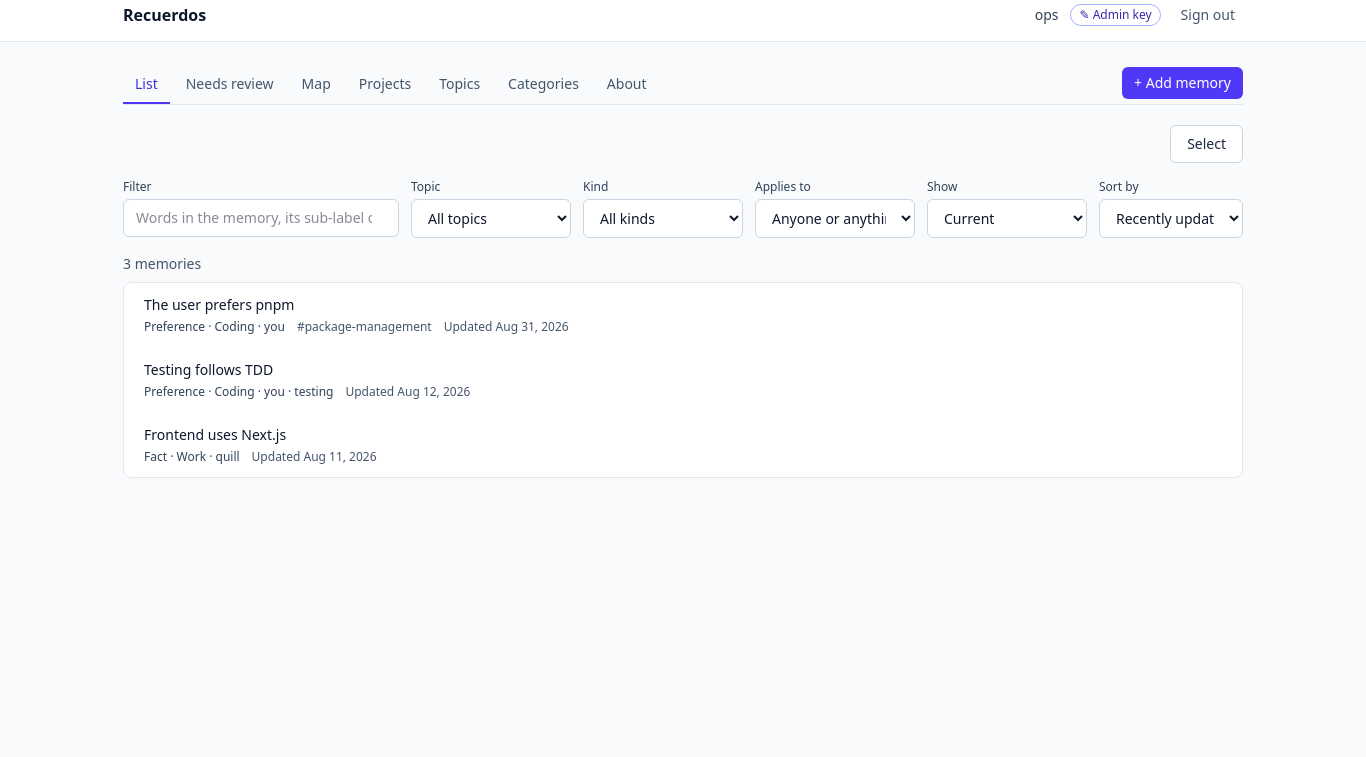
Test case: the About page › says when the named config file does not exist
Click the link "About" at (627, 84), box [607,74,646,93]
(page scrolled)
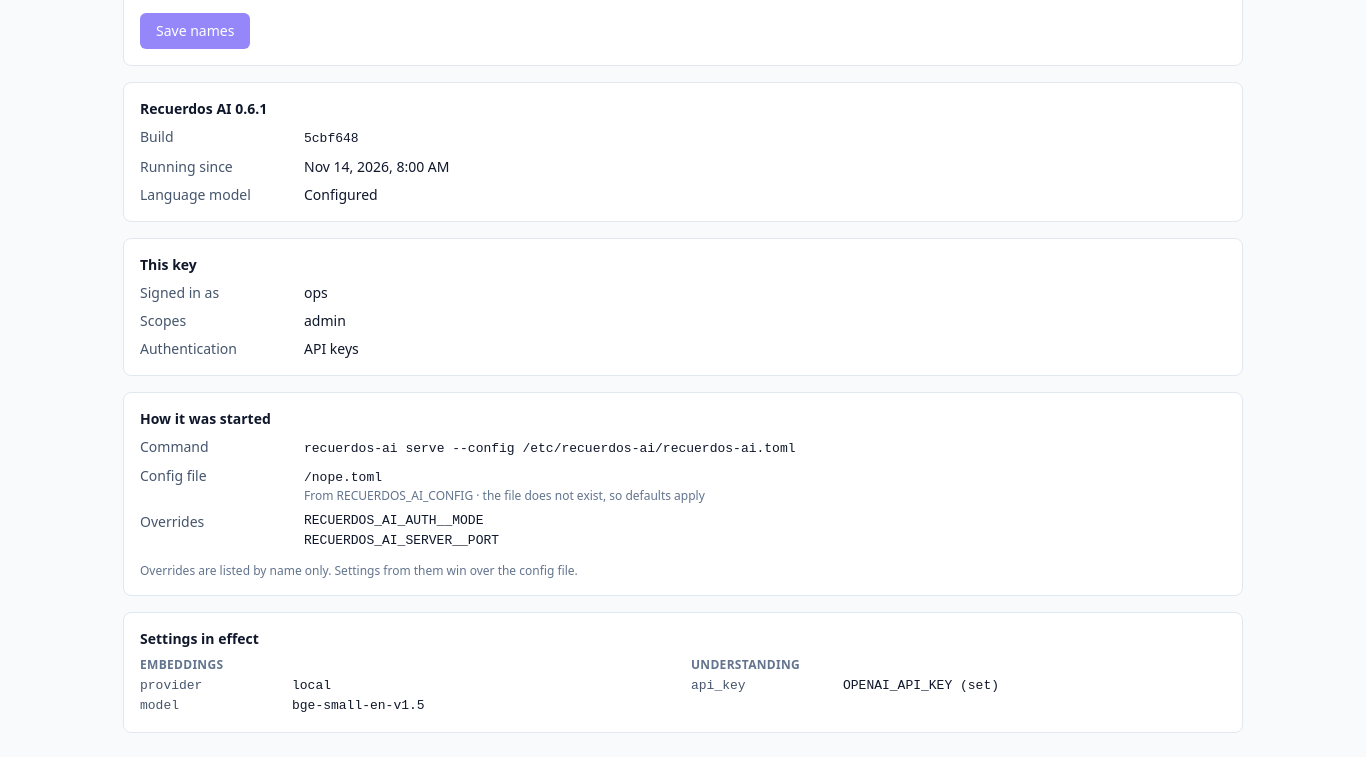
Check: the text "From RECUERDOS_AI_CONFIG · the file does not exist" is shown, box [304,487,705,504]
